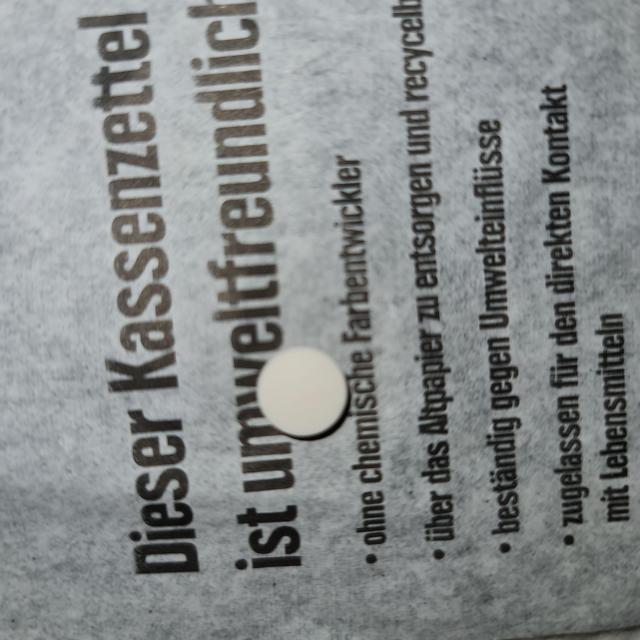pill: (254, 344, 354, 441)
